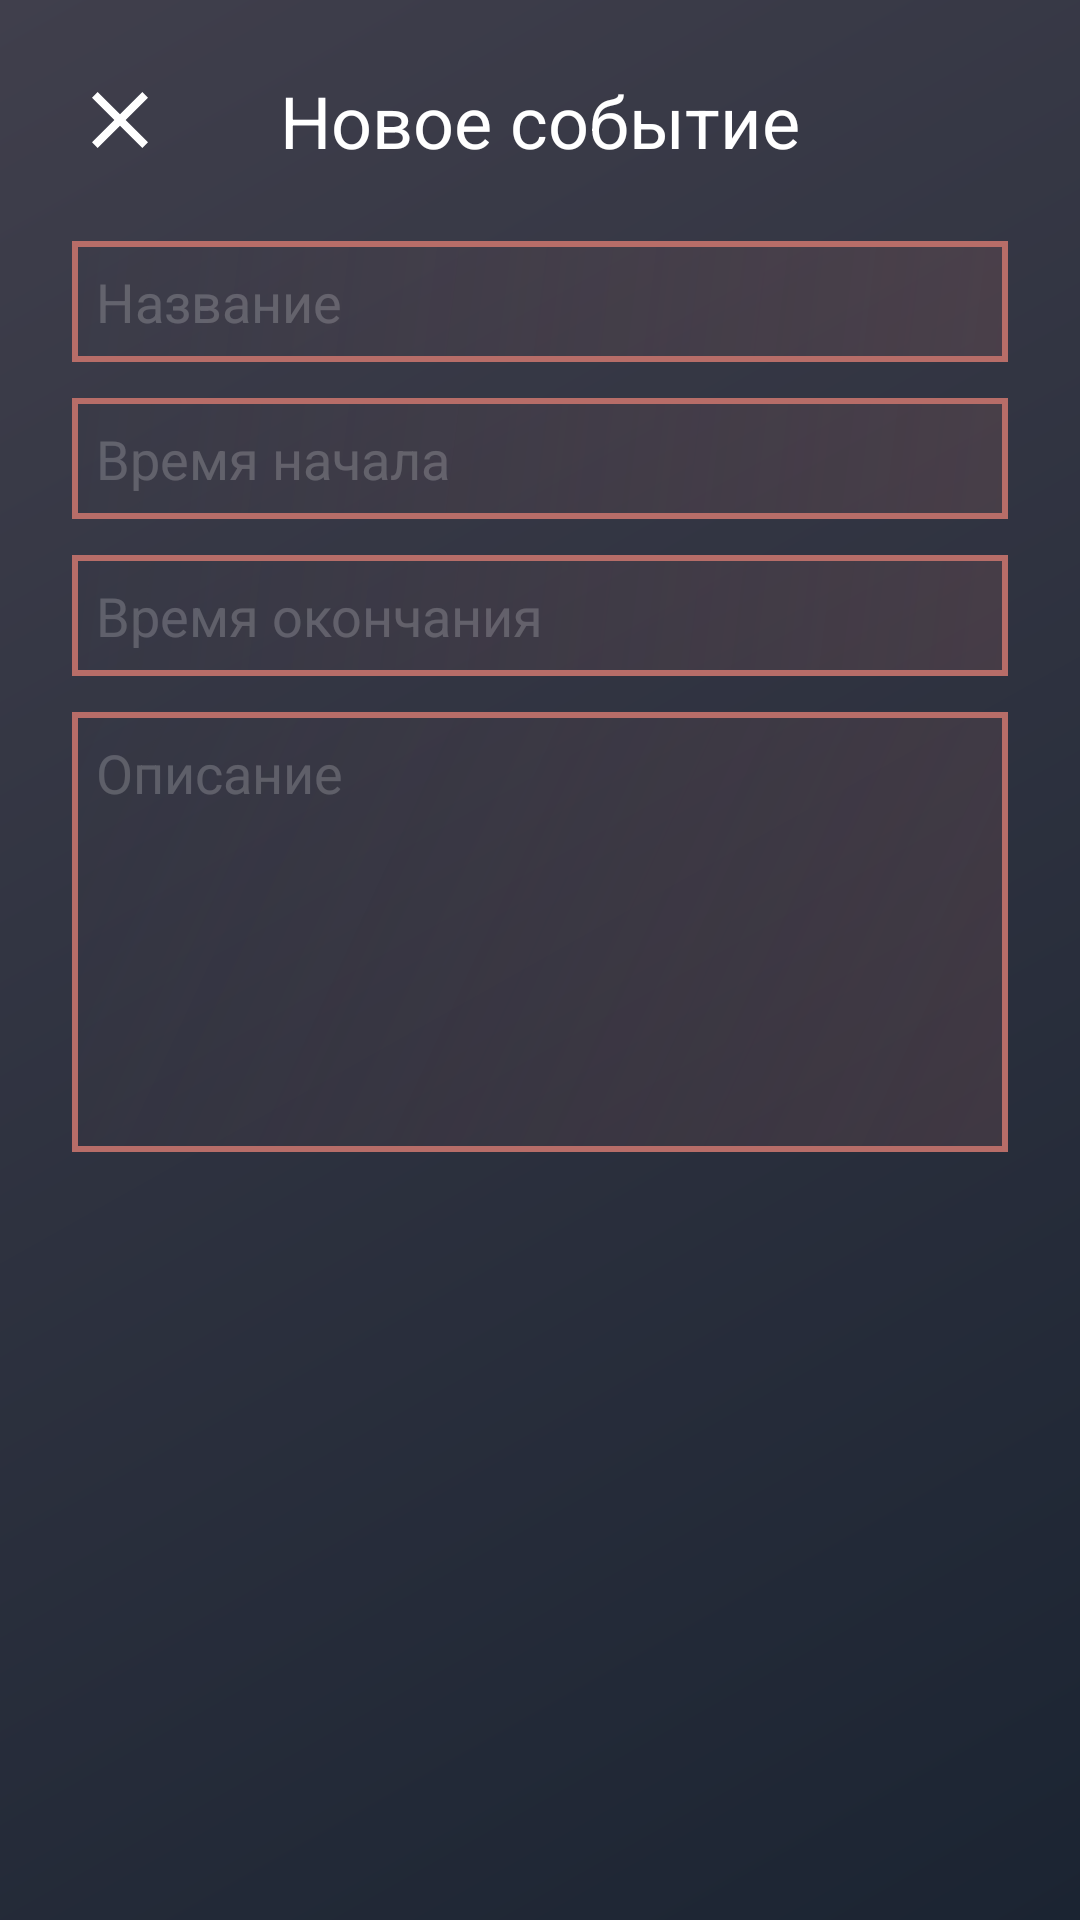

Screen size 1080×1920. Icon name, then its center in pixels as [x,y]:
clear: [120,120]
